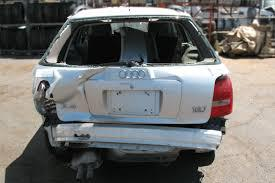Rear-windscreen-Damage: (56, 13, 208, 71)
Taillight-Damage: (31, 78, 60, 128)
boot-dent: (59, 69, 208, 128)
rear-bumper-dent: (43, 122, 208, 159)
